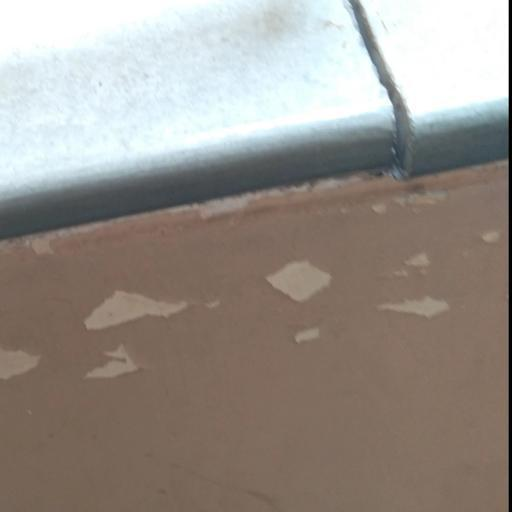peeling: (63, 254, 224, 399), (360, 215, 470, 329), (254, 251, 344, 357), (0, 318, 41, 399), (472, 217, 512, 263)
